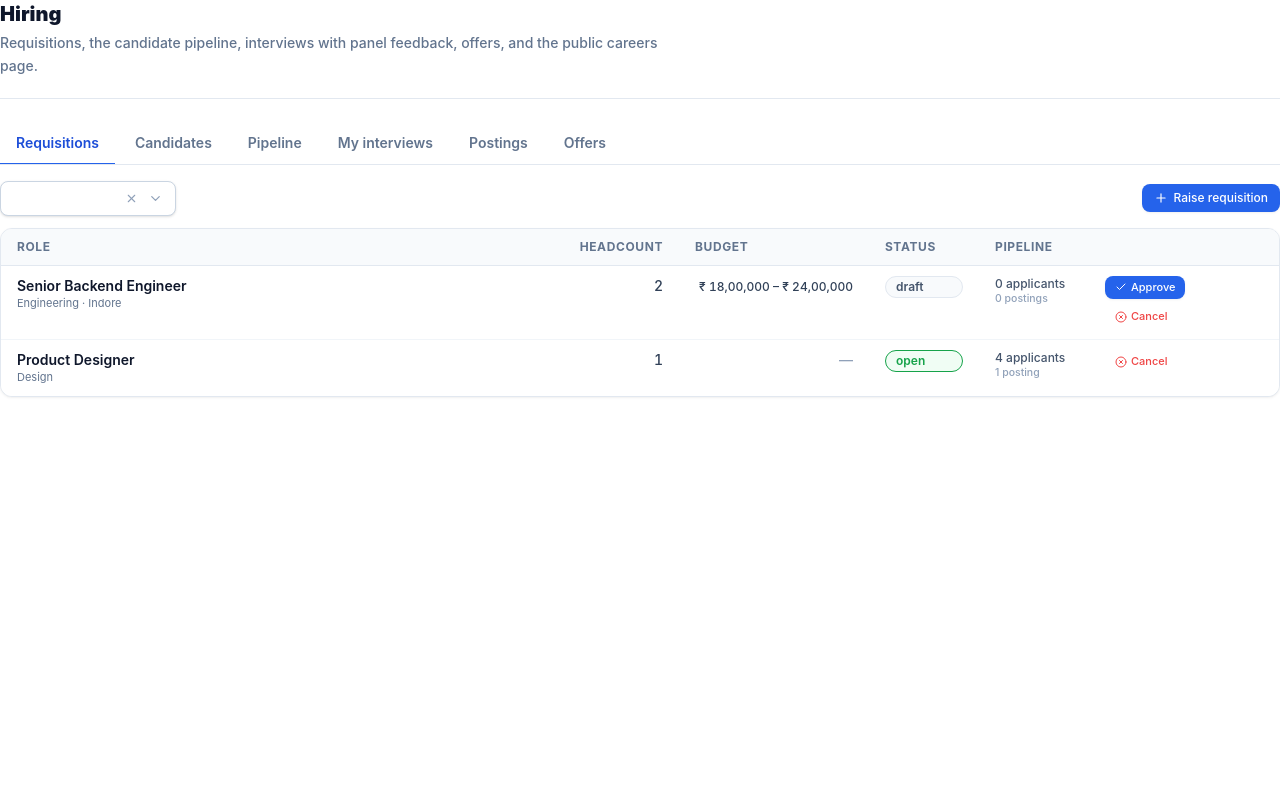
Scenario: requisitions › refuses to cancel without a reason, before any request is sent
Click the button "Cancel" in the row of "Product Designer" at (1141, 362), box [1105,350,1178,374]
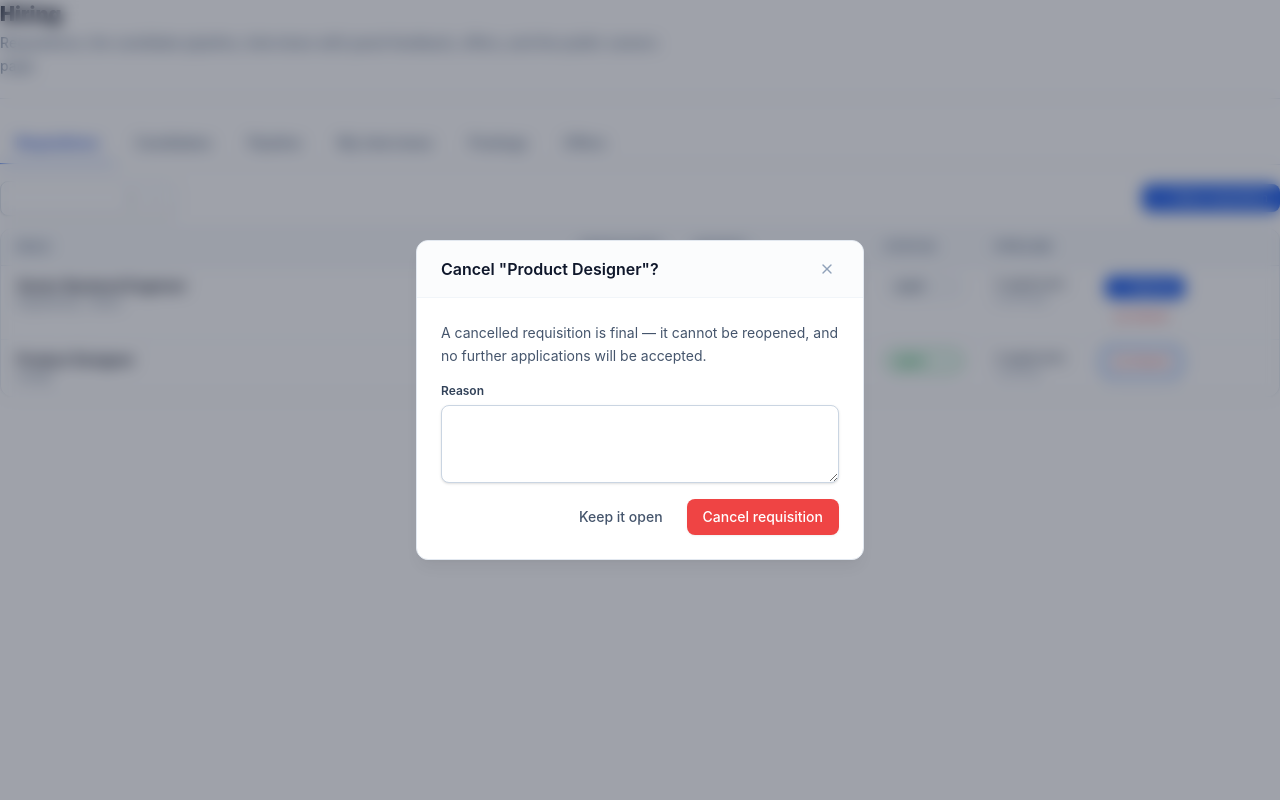
Click the button "Cancel requisition" at (763, 517), box [687,499,839,535]
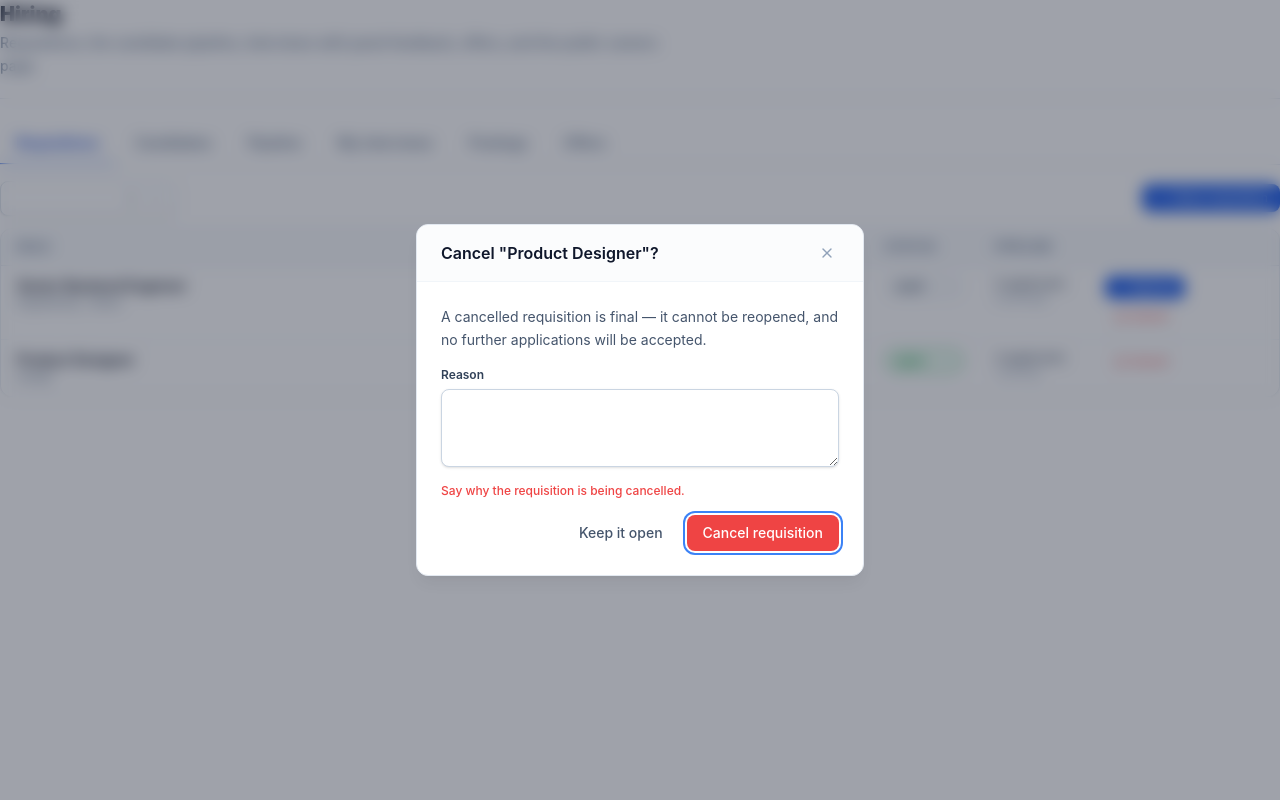
expect the message shows "Say why": met, box [441,483,685,498]
